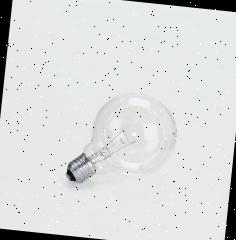lightbulb: (65, 85, 181, 192)
